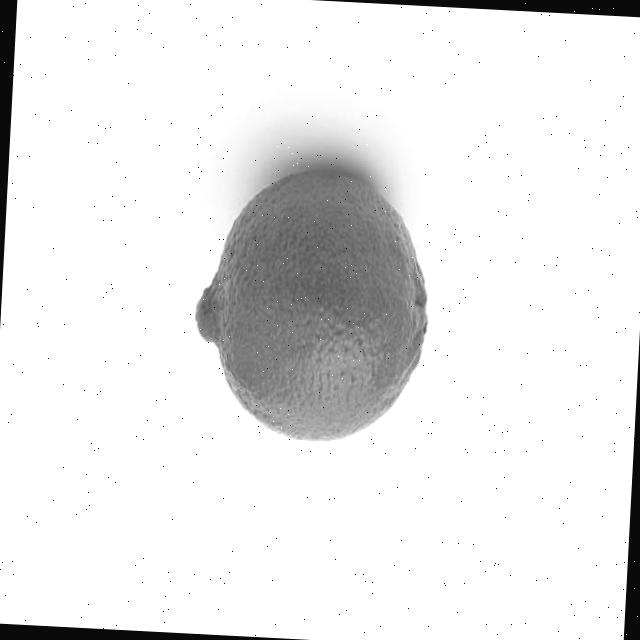Unripe: (187, 160, 437, 450)
